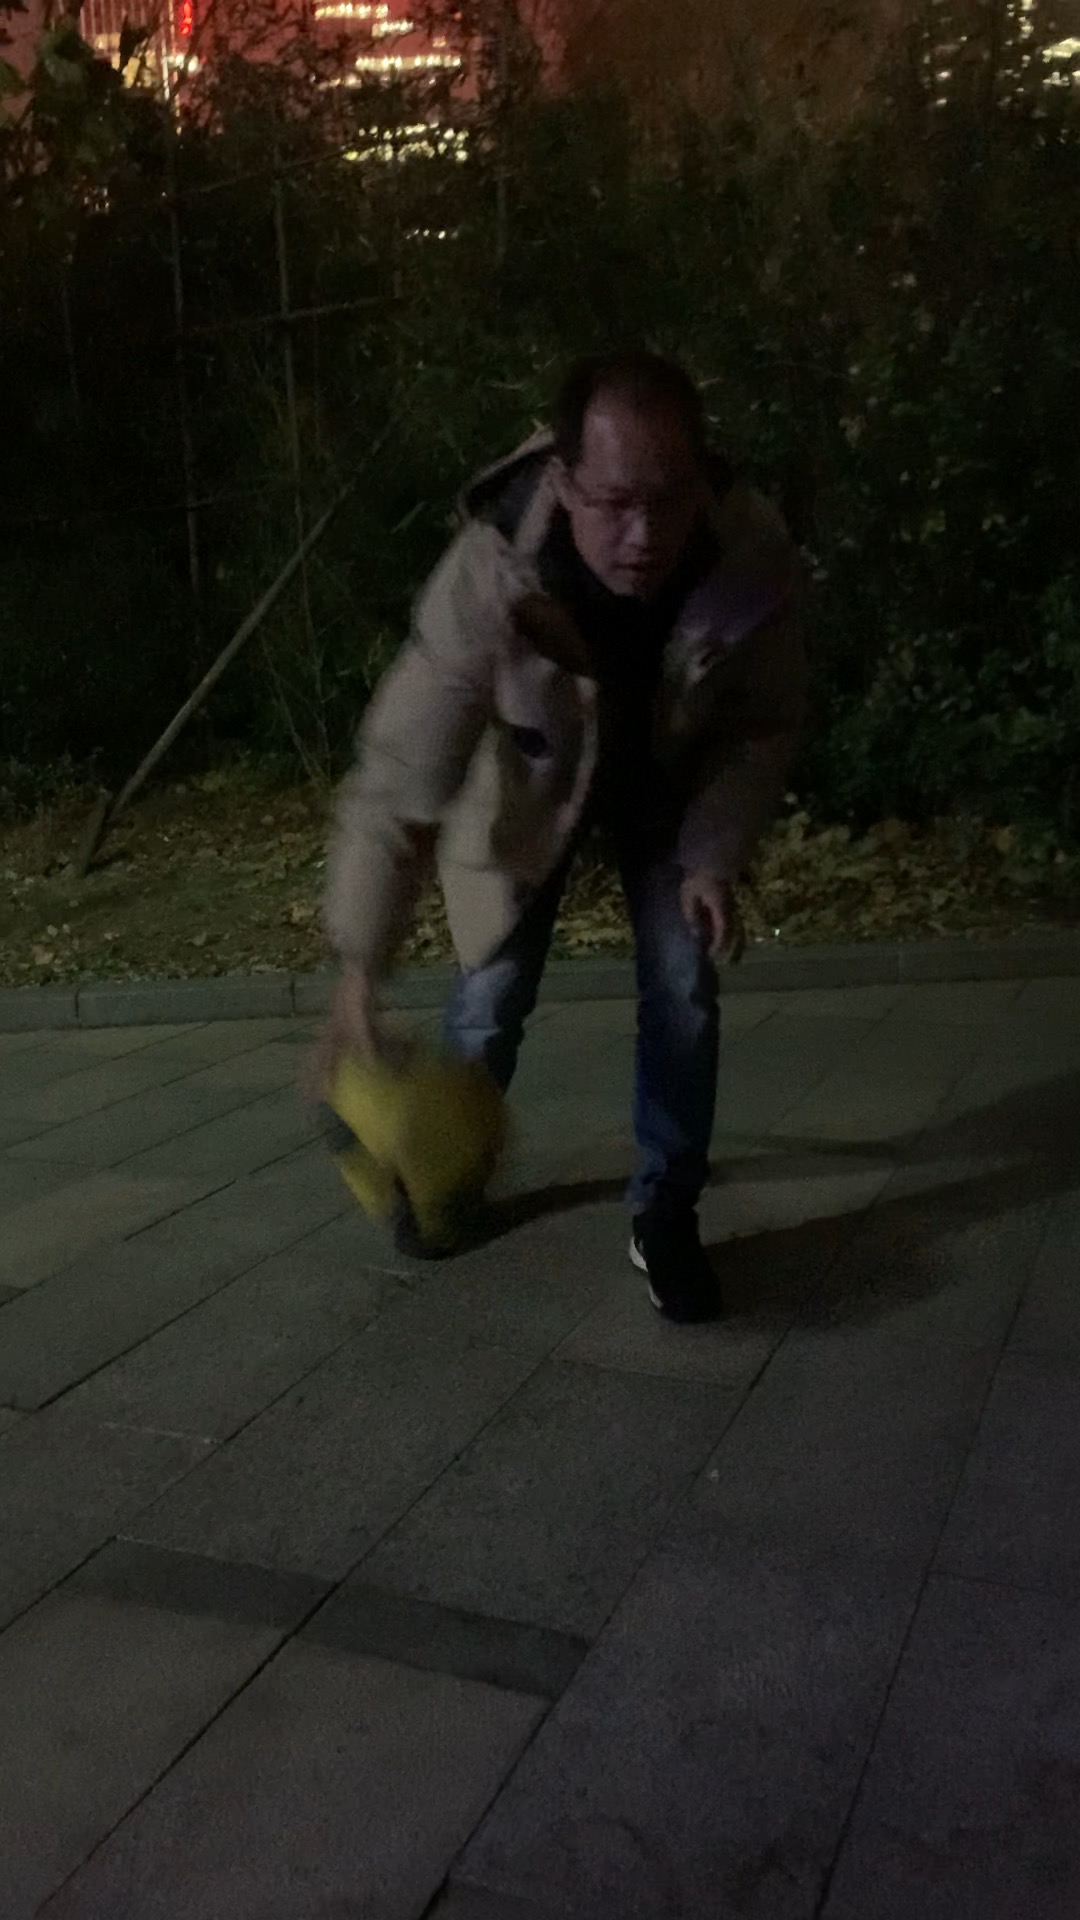ball: (322, 1029, 516, 1241)
